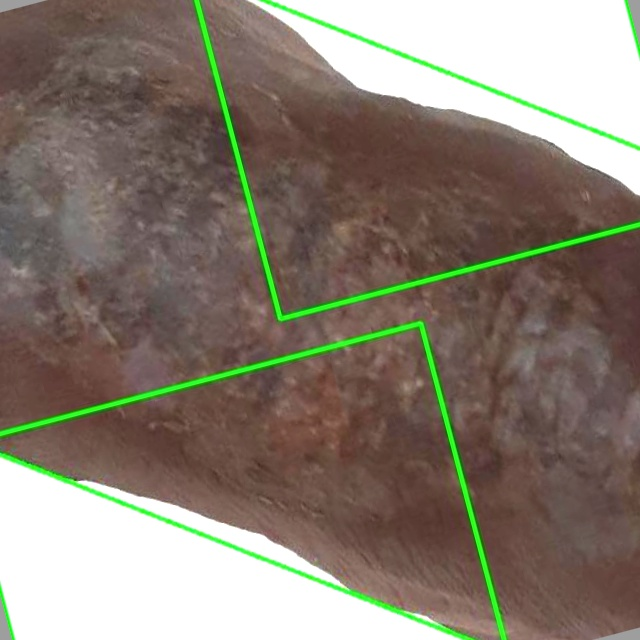Contact Dermatitis: (0, 12, 639, 598), (0, 324, 505, 639), (196, 0, 639, 320)
